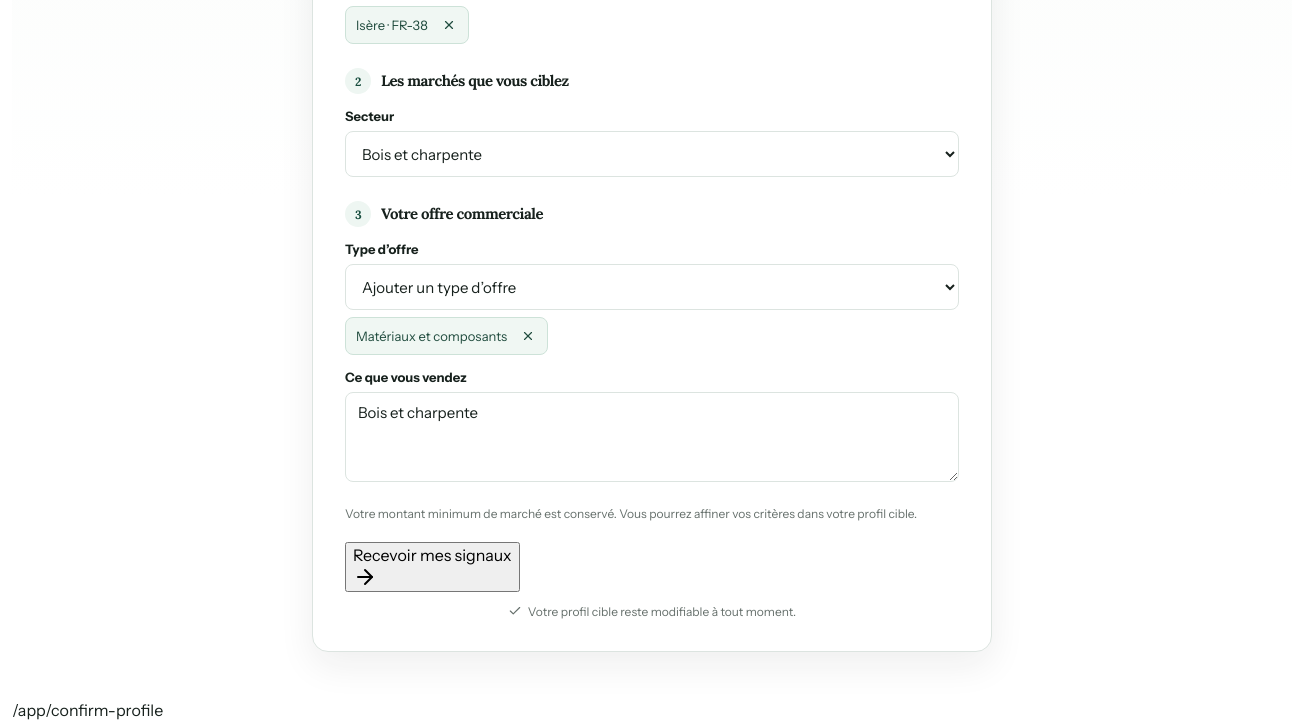
Test: enchaîne sur la création du mot de passe pour un accès temporaire
(page scrolled)
Click the button "Recevoir mes signaux" at coordinates (432, 567), box [345,542,520,592]
(page scrolled)
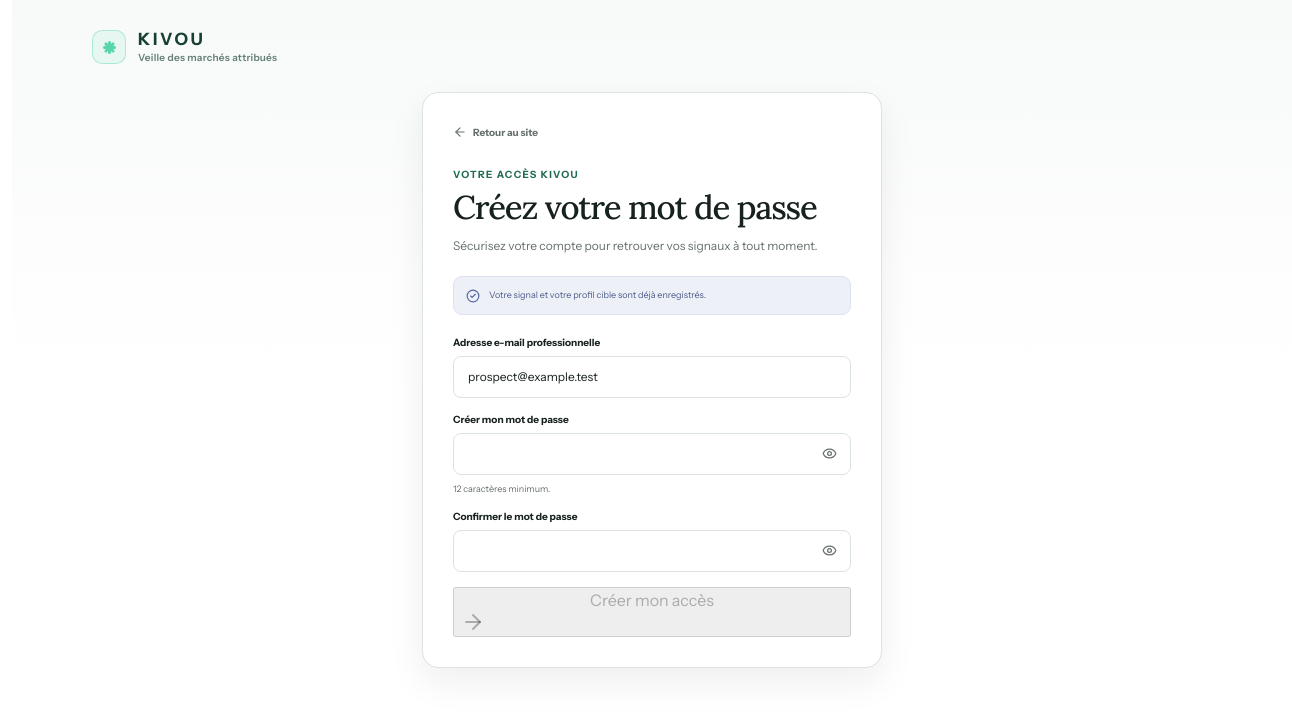
Expected: the field labelled "Adresse e-mail professionnelle" holds "prospect@example.test", [453,356,851,398]
